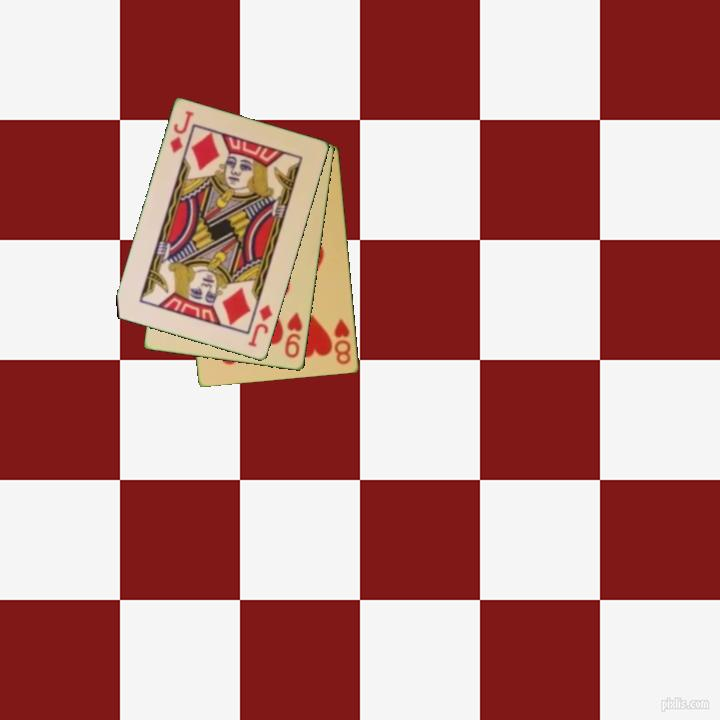8h: (331, 315, 354, 368)
9h: (281, 309, 305, 361)
Jd: (245, 301, 276, 350), (166, 107, 197, 156)
